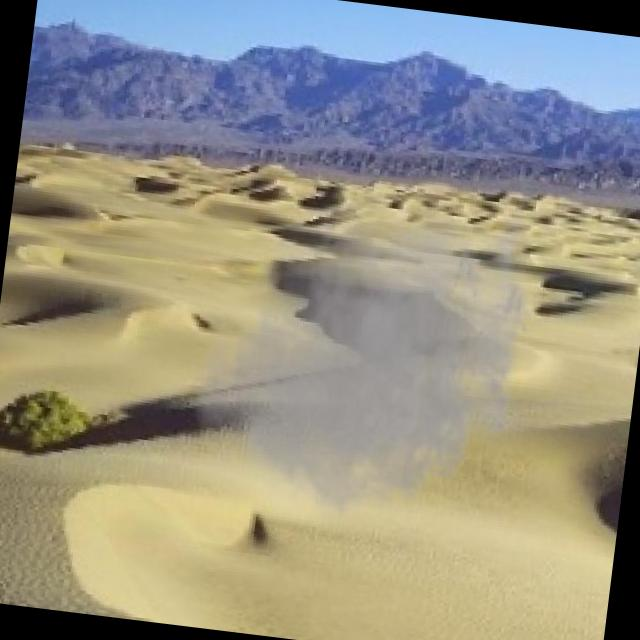Smoke: (169, 161, 562, 558)
